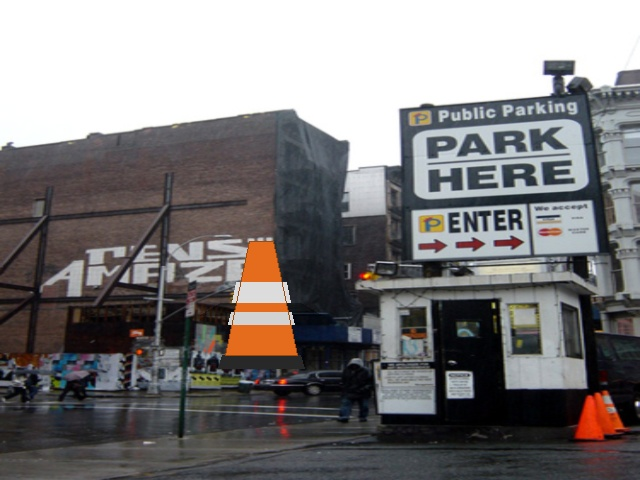traffic-cone: (218, 241, 304, 368)
